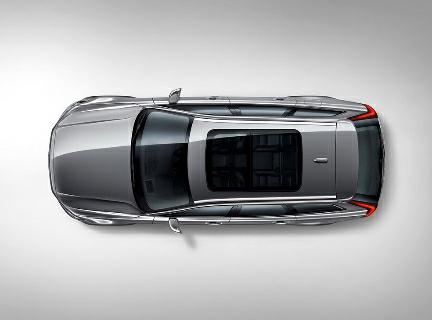沃尔沃-V90: (43, 87, 386, 232)
